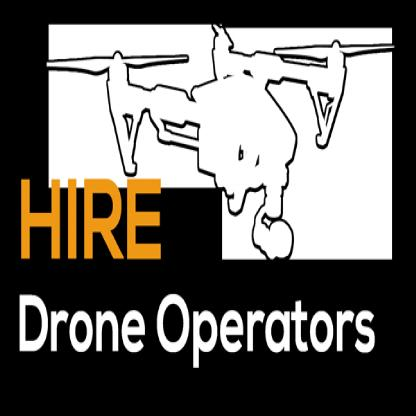drone: (38, 27, 401, 203)
